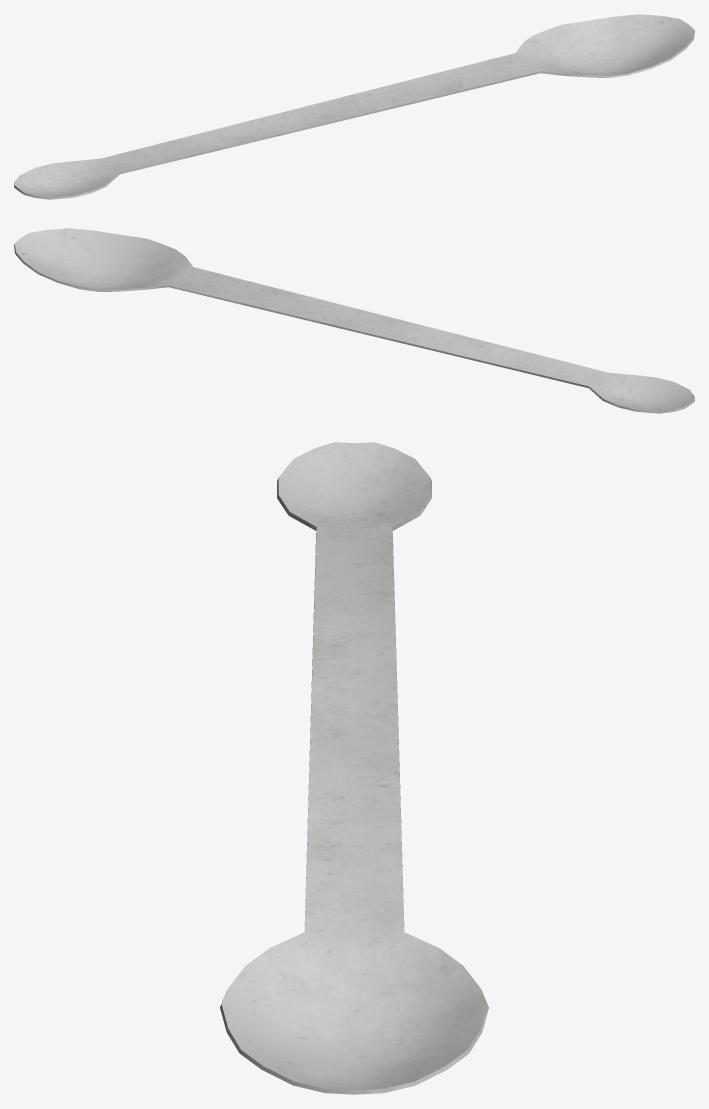
3 renders of one model, top to bottom at view 1: azimuth 30°, elevation 25°; view 2: azimuth 150°, elevation 25°; view 3: azimuth 270°, elevation 25°, orthographic. The views are drawn at different scales.
Visible parts, largest first — view 1: SM_勺子; view 2: SM_勺子; view 3: SM_勺子.
Boxes of the visible parts, bbox=[...] form: SM_勺子: bbox=[14, 14, 694, 199]; SM_勺子: bbox=[14, 228, 694, 413]; SM_勺子: bbox=[220, 442, 488, 1094].
Bounding box in the file's own units: 121 × 3.87 × 21.06.
